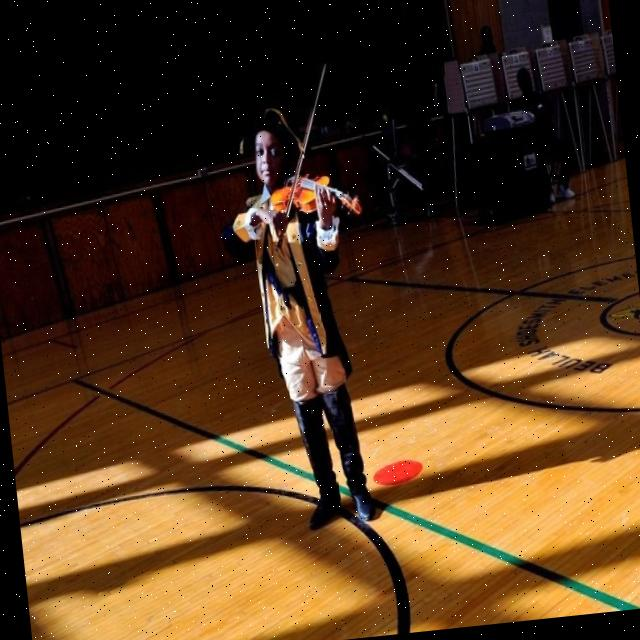violin: (270, 164, 364, 227)
